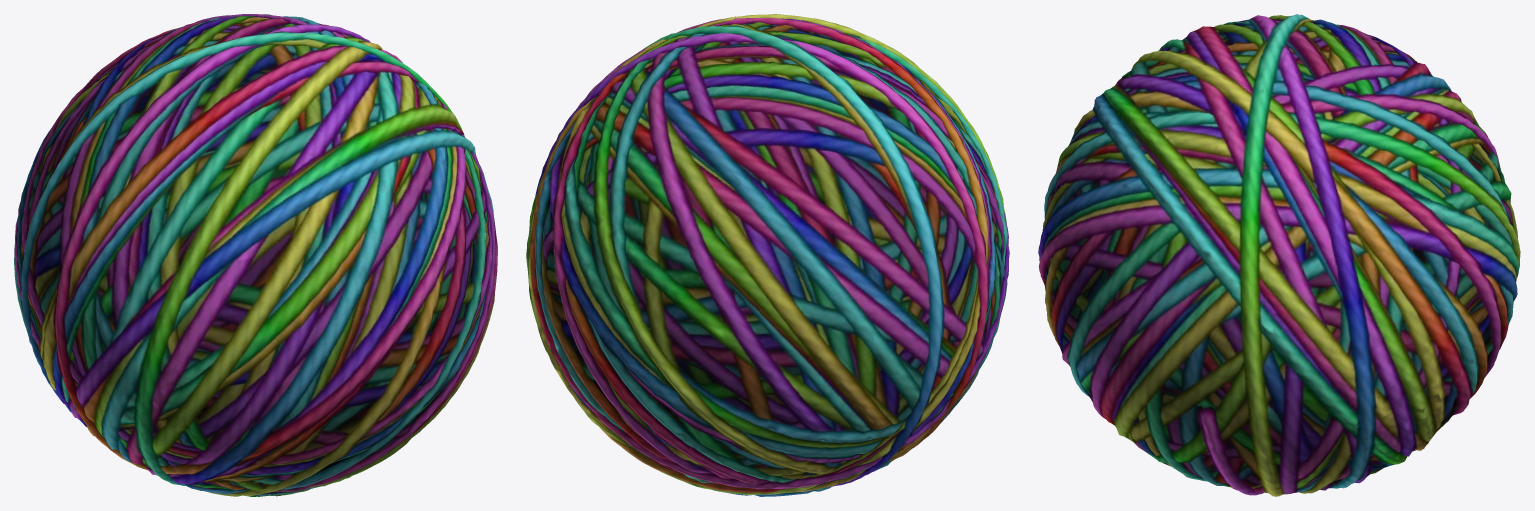
Rendered from realyarn.glb.
3 renders of one model, left to right at view 1: azimuth 30°, elevation 25°; view 2: azimuth 150°, elevation 25°; view 3: azimuth 270°, elevation 25°, orthographic.
Visible parts, largest first — view 1: SM_Globe6HD_retopo; view 2: SM_Globe6HD_retopo; view 3: SM_Globe6HD_retopo.
Part boxes in pixels (x1,y1,x2,y2): SM_Globe6HD_retopo: (14,14,497,496); SM_Globe6HD_retopo: (526,14,1009,496); SM_Globe6HD_retopo: (1038,14,1520,496).
Size of the model in its own units: 0.1397 by 0.14 by 0.1397.
Materials: 1 (1 with a texture image).
